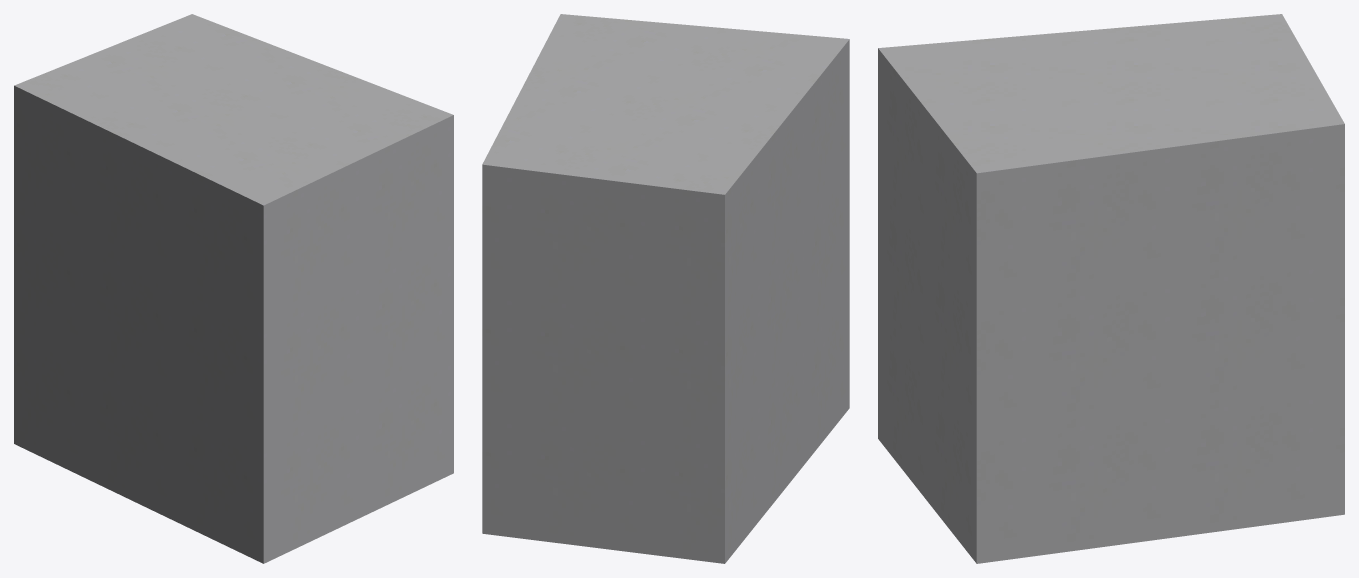
The picture shows the model from 3 angles, left to right: view 1: azimuth 30°, elevation 25°; view 2: azimuth 150°, elevation 25°; view 3: azimuth 270°, elevation 25°; orthographic projection. The views are drawn at different scales.
Parts seen in each view (by area): view 1: B292084041201062A0; view 2: B292084041201062A0; view 3: B292084041201062A0.
Part boxes in pixels (x1=…): B292084041201062A0: x1=14, y1=14, x2=453, y2=563; B292084041201062A0: x1=482, y1=14, x2=849, y2=563; B292084041201062A0: x1=878, y1=14, x2=1344, y2=563.
Size of the model in its own units: 2.63 by 3 by 3.25.
1 material, 1 textured.
